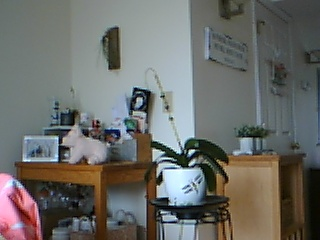piggy: (61, 123, 111, 166)
